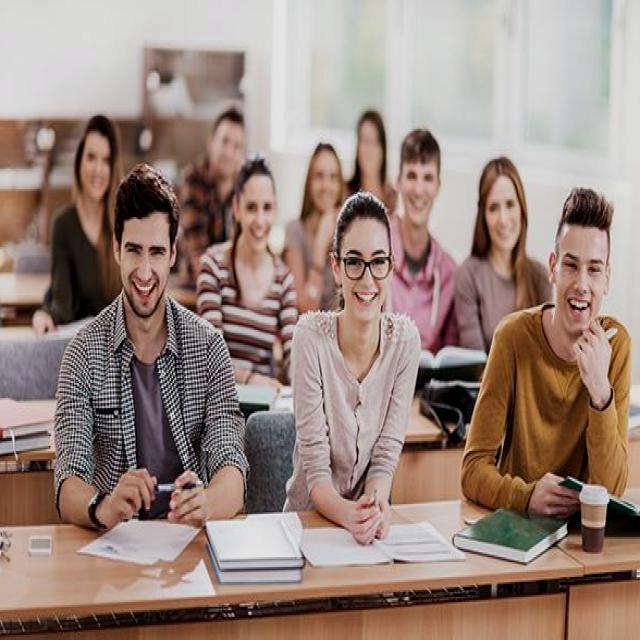Looking forward: (554, 217, 612, 336), (116, 206, 178, 316), (339, 215, 392, 328), (75, 114, 117, 203), (235, 170, 278, 253), (482, 169, 524, 253), (397, 152, 440, 230)
